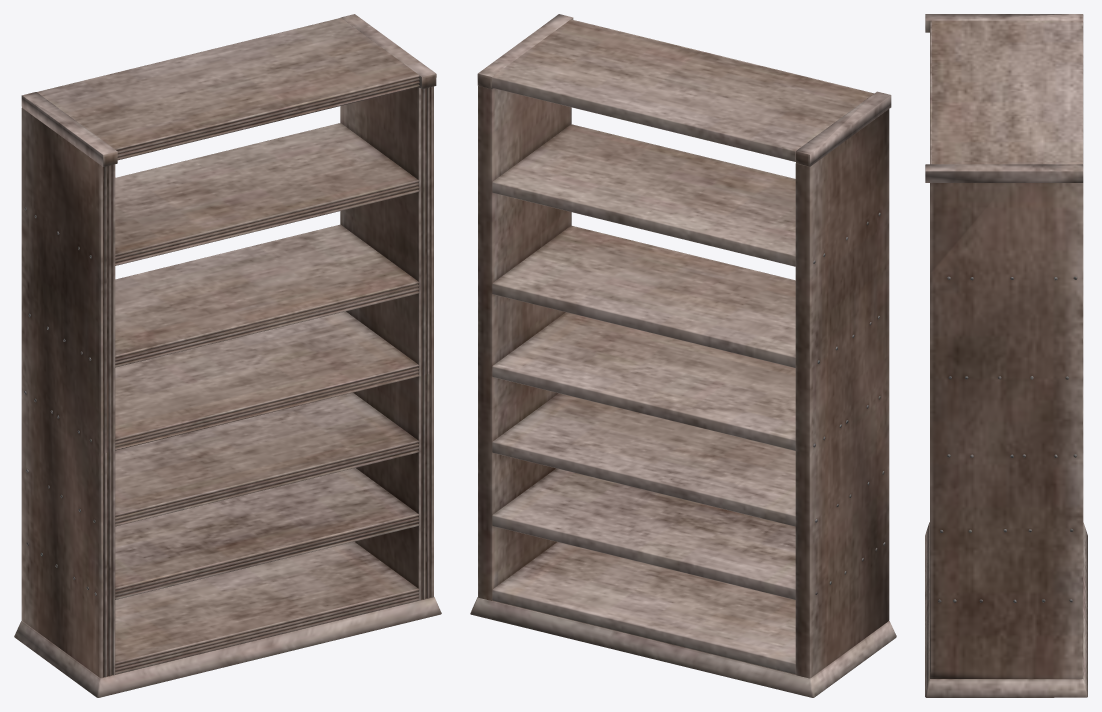
File: wooden_bookshelf_worn_lod.gltf
3 renders of one model, left to right at view 1: azimuth 30°, elevation 25°; view 2: azimuth 150°, elevation 25°; view 3: azimuth 270°, elevation 25°, orthographic. The views are drawn at different scales.
Parts seen in each view (by area): view 1: wooden_bookshelf_worn; view 2: wooden_bookshelf_worn; view 3: wooden_bookshelf_worn.
Part boxes in pixels (x1,y1,x2,y2): wooden_bookshelf_worn: [14, 14, 441, 697]; wooden_bookshelf_worn: [470, 14, 896, 697]; wooden_bookshelf_worn: [925, 14, 1087, 697].
Bounding box in the file's own units: 1.37 × 2.06 × 0.5813.
Materials: 1 (1 with a texture image).
